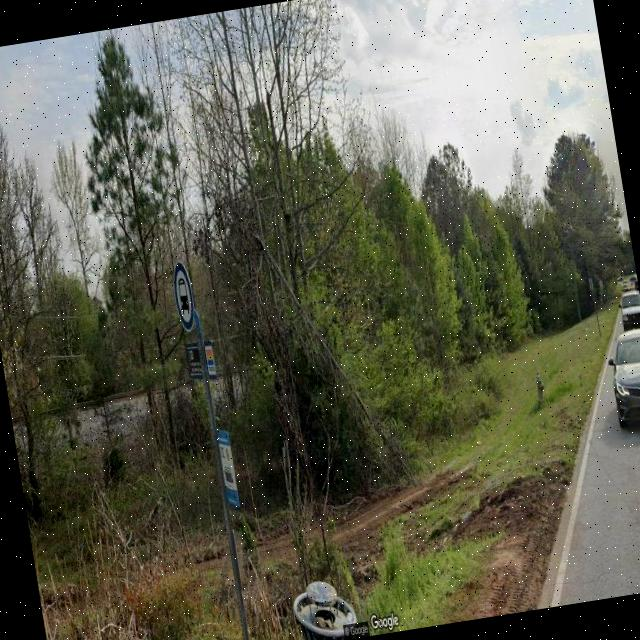trash_can: (289, 575, 359, 640)
